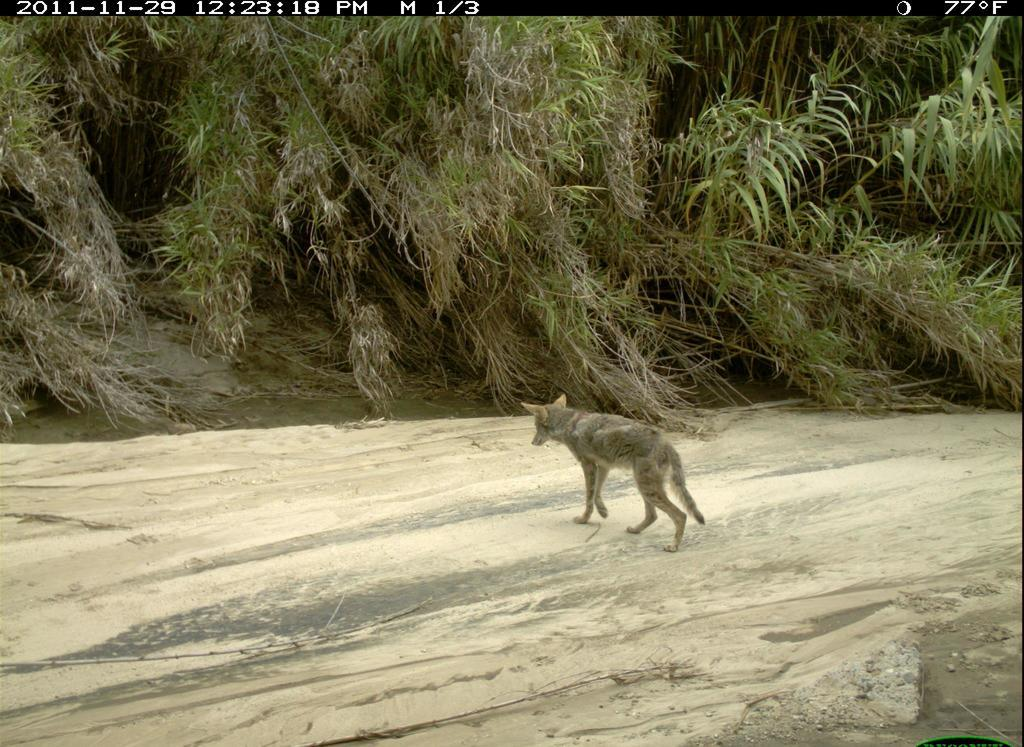coyote: (515, 389, 715, 561)
